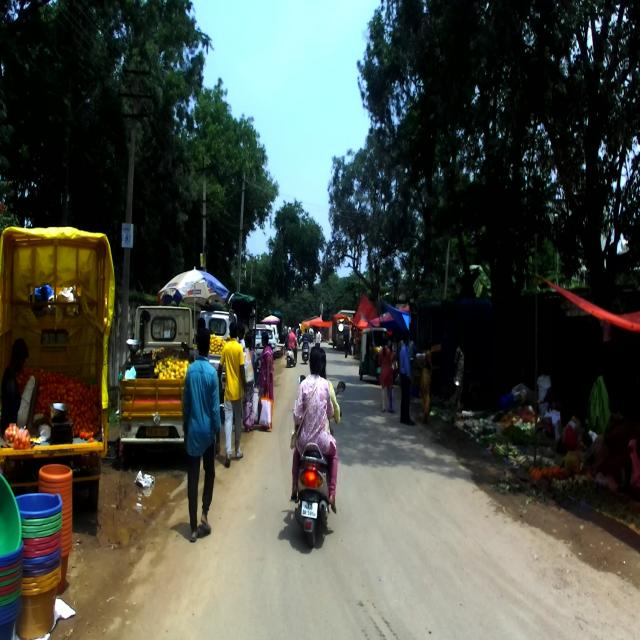autorickshaw: (0, 224, 116, 509)
scooter: (292, 374, 345, 547)
